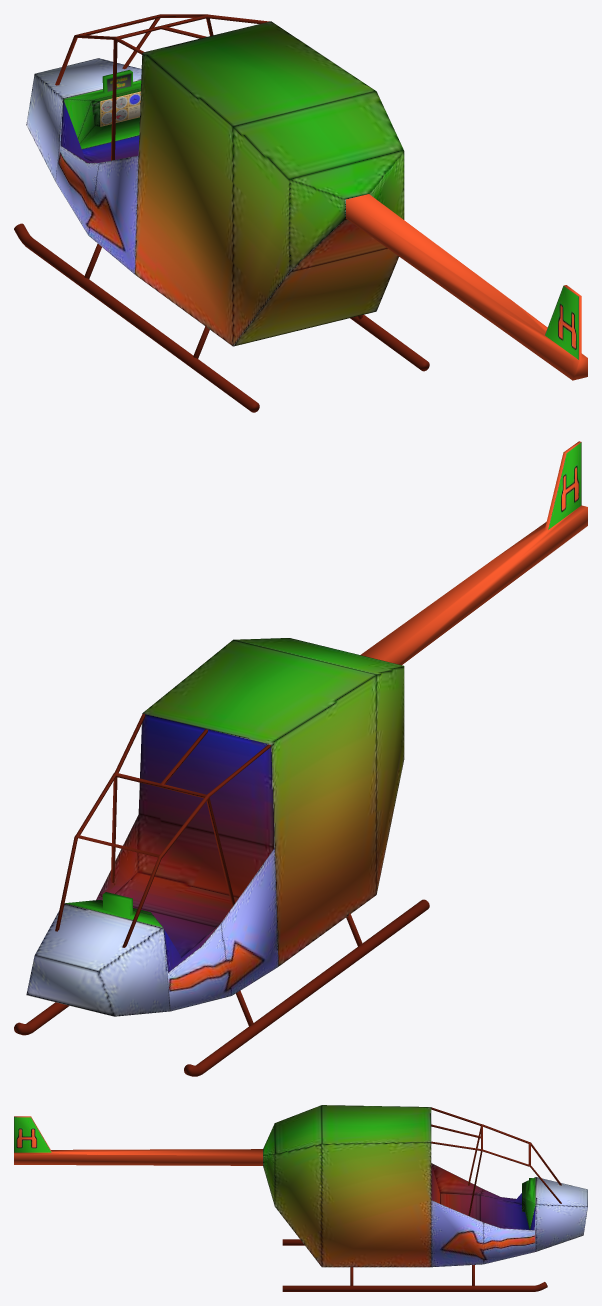
Rendered from heli_hi.obj.
3 views of the same model, one above another, from view 1: azimuth 30°, elevation 25°; view 2: azimuth 150°, elevation 25°; view 3: azimuth 270°, elevation 25° (orthographic). The views are drawn at different scales.
Parts seen in each view (by area): view 1: cube1, cylinder4, cube3; view 2: cube1, cylinder4, cube3; view 3: cube1, cylinder4, cube3.
Boxes of the visible parts, box(x1,y1,x2,y2) form: cube1: box(26, 21, 587, 380); cylinder4: box(14, 223, 429, 412); cube3: box(55, 14, 269, 160); cube1: box(26, 441, 587, 1016); cylinder4: box(14, 899, 429, 1076); cube3: box(55, 714, 270, 947); cube1: box(14, 1105, 587, 1267); cylinder4: box(282, 1239, 547, 1291); cube3: box(431, 1107, 561, 1216).
Size of the model in its own units: 0.74 by 1.07 by 3.67.
